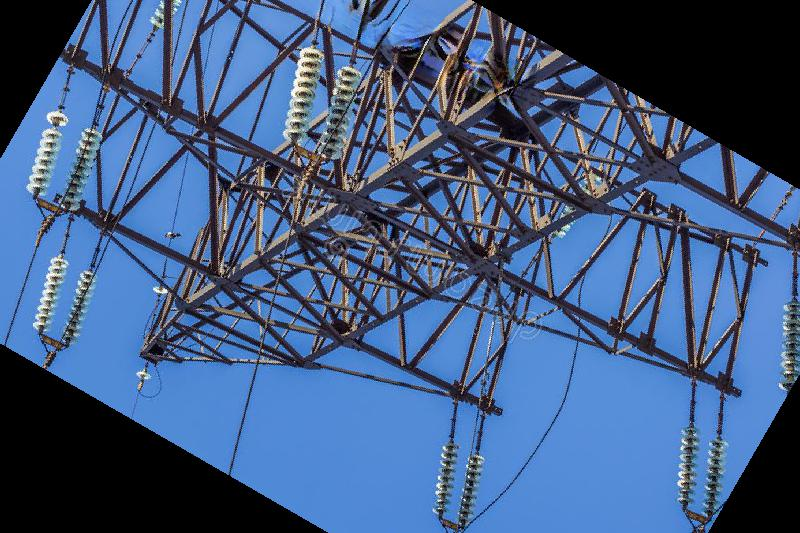insulator: (281, 43, 330, 145), (317, 63, 364, 160), (23, 107, 70, 199), (61, 124, 106, 203), (30, 252, 71, 334), (59, 266, 98, 346), (670, 424, 703, 508), (700, 437, 731, 518), (774, 299, 800, 393), (454, 451, 487, 524), (430, 439, 460, 517), (147, 1, 183, 36)
insulator_stringdrop: (39, 106, 71, 141)
